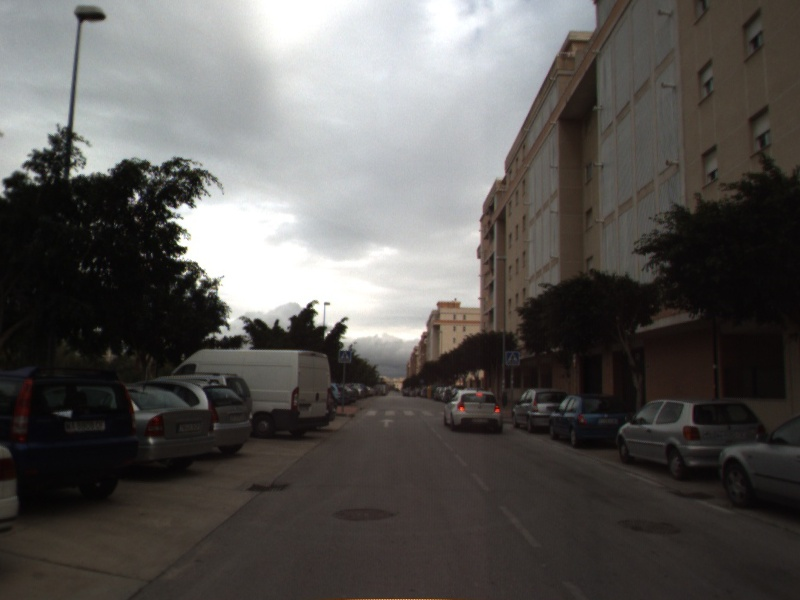STRAIGHT: (377, 417, 397, 430)
